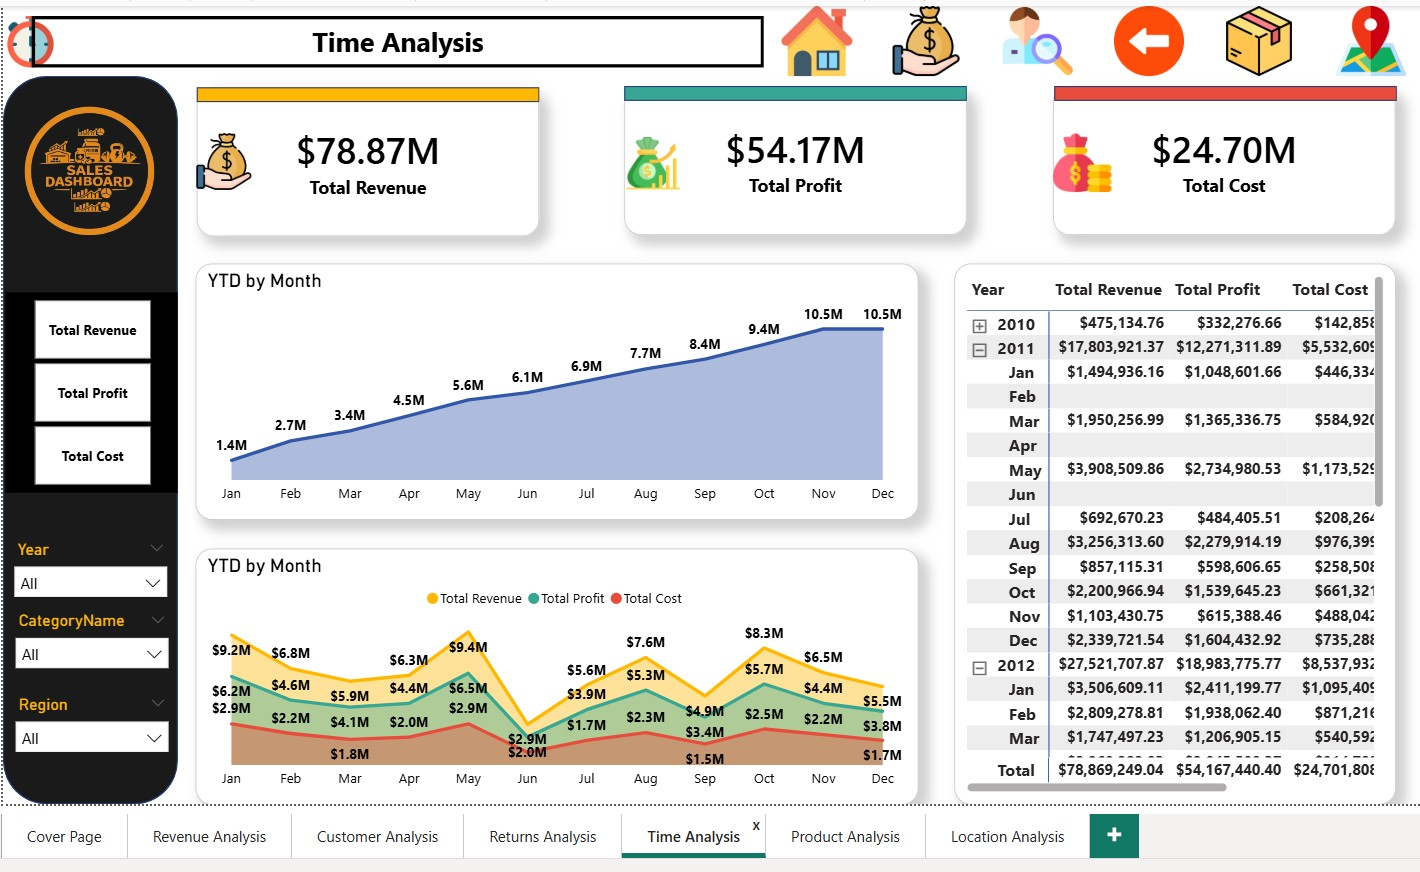

The page's visual inventory and layout, read from the dashboard file:
{"tool":"powerbi","page":{"name":"Time Analysis","canvas":[1280,720],"ordinal":4},"visuals":[{"type":"shape","box":[0,63.6,157.7,656.7],"z":0},{"type":"slicer","fields":{"Values":["Calendar Table.Year"]},"box":[0,476.9,157.7,63.6],"z":1000},{"type":"slicer","fields":{"Values":["Customers.Region"]},"box":[1.2,616.3,157.7,64.8],"z":2000},{"type":"cardVisual","fields":{"Data":["Calculations.Total Cost"]},"box":[946.5,72.1,309,134],"z":3000,"group":"g2"},{"type":"group","id":"g1","title":"Group 1","box":[174.1,73,309,134],"z":3000},{"type":"cardVisual","fields":{"Data":["Calculations.Total Revenue"]},"box":[174.1,73,309,134],"z":3000,"group":"g1"},{"type":"group","id":"g2","title":"Group 2","box":[946.5,72.1,309.6,134],"z":4000},{"type":"group","id":"g3","title":"Group 3","box":[560.1,72.1,309.4,133.3],"z":5000},{"type":"slicer","fields":{"Values":["Time Analysis.Time Analysis"]},"box":[2.4,258,155.3,181],"z":6000},{"type":"areaChart","fields":{"Category":["Calendar Table.Month Name"],"Y":["Calculations.YTD"]},"box":[173.6,232.3,651.8,231.1],"z":7000},{"type":"lineChart","fields":{"Y":["Calculations.Total Revenue","Calculations.Total Profit","Calculations.Total Cost"],"Category":["Calendar Table.Month Name"]},"box":[173.6,489.1,651.8,231.1],"z":8000},{"type":"pivotTable","fields":{"Values":["Calculations.Total Revenue","Calculations.Total Profit","Calculations.Total Cost","Calculations.MOM","Calculations.Var from ly"],"Rows":["Calendar Table.Year","Calendar Table.Month Name"]},"box":[857.2,232.3,398.6,487.9],"z":9000},{"type":"slicer","fields":{"Values":["Product.CategoryName"]},"box":[1.2,540.5,157.7,64.8],"z":10000},{"type":"image","box":[0,74.6,158,149.3],"z":11000},{"type":"cardVisual","fields":{"Data":["Calculations.Total Profit"]},"box":[560.6,72.1,309,134],"z":11001,"group":"g3"},{"type":"shape","box":[174.1,73,309,13.4],"z":11002,"group":"g1"},{"type":"shape","box":[947.1,72.1,309,13.4],"z":11005,"group":"g2"},{"type":"shape","box":[560.1,72.1,309,13.4],"z":11008,"group":"g3"},{"type":"image","box":[687,0,92.9,63.6],"z":12000},{"type":"image","box":[787,0,91,63],"z":13000},{"type":"image","box":[887,0,91.7,63.6],"z":14000},{"type":"image","box":[1087,0,92,63.6],"z":15000},{"type":"image","box":[1187.1,0,92.9,63.6],"z":16000},{"type":"image","box":[987,0,92,63],"z":17000},{"type":"image","box":[0,8.6,50.1,46.5],"z":18000},{"type":"actionButton","box":[25.7,8.6,660.3,46.5],"z":19000},{"type":"image","box":[173.6,113.7,51.4,52.6],"z":20000},{"type":"image","box":[560.1,114.9,51.4,52.6],"z":21000},{"type":"image","box":[946.5,114.9,52.6,52.6],"z":22000}]}

Visuals, with their boxes on the page's 1280x720 design canvas (x1, y1, x2, y2). These are canvas units, not pixel positions in the 1420x872 screenshot, which may show the page scaled, cropped or inside an application window:
shape: Rect(0, 64, 158, 720)
slicer - Calendar Table.Year: Rect(0, 477, 158, 540)
slicer - Customers.Region: Rect(1, 616, 159, 681)
cardVisual - Calculations.Total Cost: Rect(946, 72, 1256, 206)
"Group 1" group: Rect(174, 73, 483, 207)
cardVisual - Calculations.Total Revenue: Rect(174, 73, 483, 207)
"Group 2" group: Rect(946, 72, 1256, 206)
"Group 3" group: Rect(560, 72, 870, 205)
slicer - Time Analysis.Time Analysis: Rect(2, 258, 158, 439)
areaChart - Calendar Table.Month Name x Calculations.YTD: Rect(174, 232, 825, 463)
lineChart - Calculations.Total Revenue x Calculations.Total Profit: Rect(174, 489, 825, 720)
pivotTable - Calculations.Total Revenue x Calculations.Total Profit: Rect(857, 232, 1256, 720)
slicer - Product.CategoryName: Rect(1, 540, 159, 605)
image: Rect(0, 75, 158, 224)
cardVisual - Calculations.Total Profit: Rect(561, 72, 870, 206)
shape: Rect(174, 73, 483, 86)
shape: Rect(947, 72, 1256, 86)
shape: Rect(560, 72, 869, 86)
image: Rect(687, 0, 780, 64)
image: Rect(787, 0, 878, 63)
image: Rect(887, 0, 979, 64)
image: Rect(1087, 0, 1179, 64)
image: Rect(1187, 0, 1280, 64)
image: Rect(987, 0, 1079, 63)
image: Rect(0, 9, 50, 55)
actionButton: Rect(26, 9, 686, 55)
image: Rect(174, 114, 225, 166)
image: Rect(560, 115, 612, 168)
image: Rect(946, 115, 999, 168)
